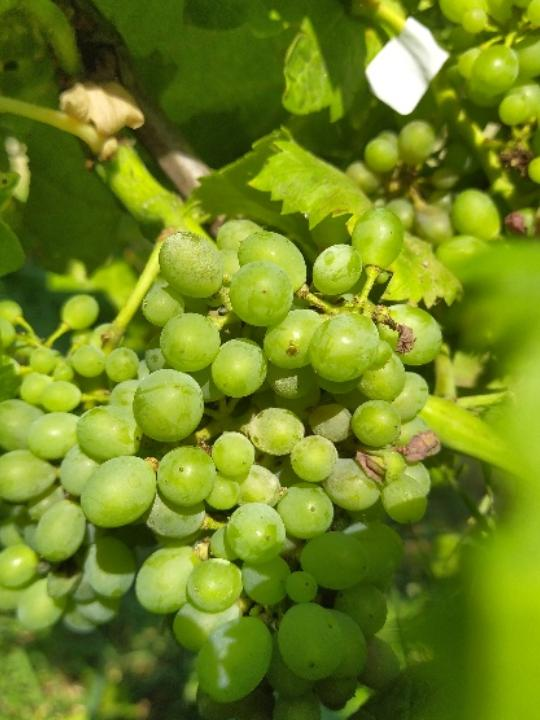grape: (0, 203, 448, 720)
